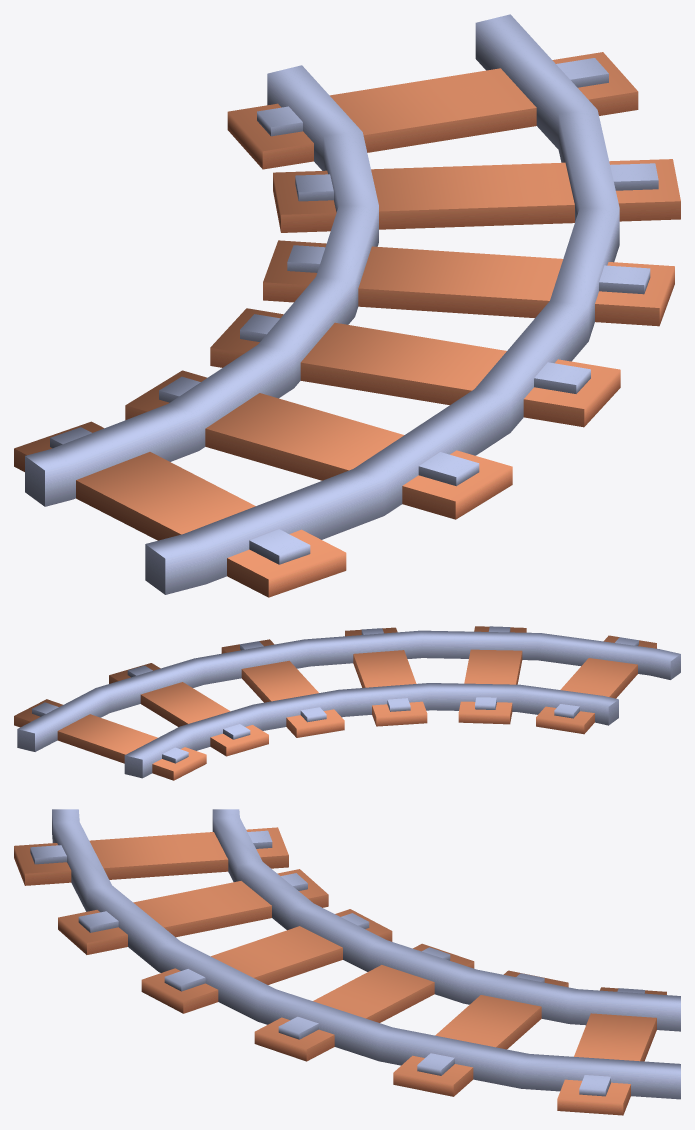
Rendered from railroad-corner-small.glb.
The picture shows the model from 3 angles, top to bottom: view 1: azimuth 30°, elevation 25°; view 2: azimuth 150°, elevation 25°; view 3: azimuth 270°, elevation 25°; orthographic projection. The views are drawn at different scales.
Visible parts, largest first — view 1: railroad-corner-small; view 2: railroad-corner-small; view 3: railroad-corner-small.
Boxes of the visible parts, bbox=[...] form: railroad-corner-small: bbox=[14, 14, 680, 597]; railroad-corner-small: bbox=[14, 626, 680, 780]; railroad-corner-small: bbox=[14, 809, 680, 1115].
Bounding box in the file's own units: 2.49 × 0.0999 × 2.49.
1 material, 1 textured.
